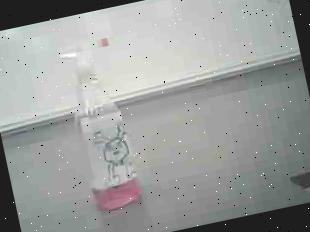hazard: (44, 25, 165, 223)
